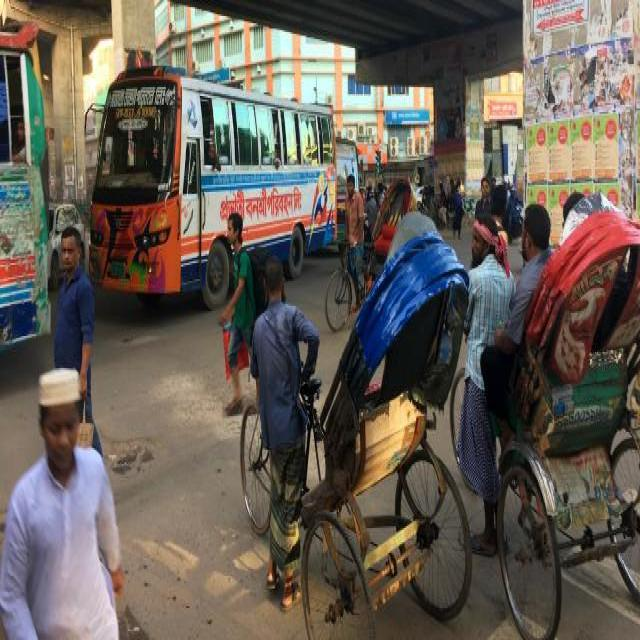bus: (85, 61, 337, 311), (0, 20, 55, 366), (331, 130, 364, 252)
car: (43, 199, 88, 286)
motorcycle: (234, 203, 479, 638), (448, 173, 638, 636), (321, 169, 422, 334), (499, 180, 525, 243)
